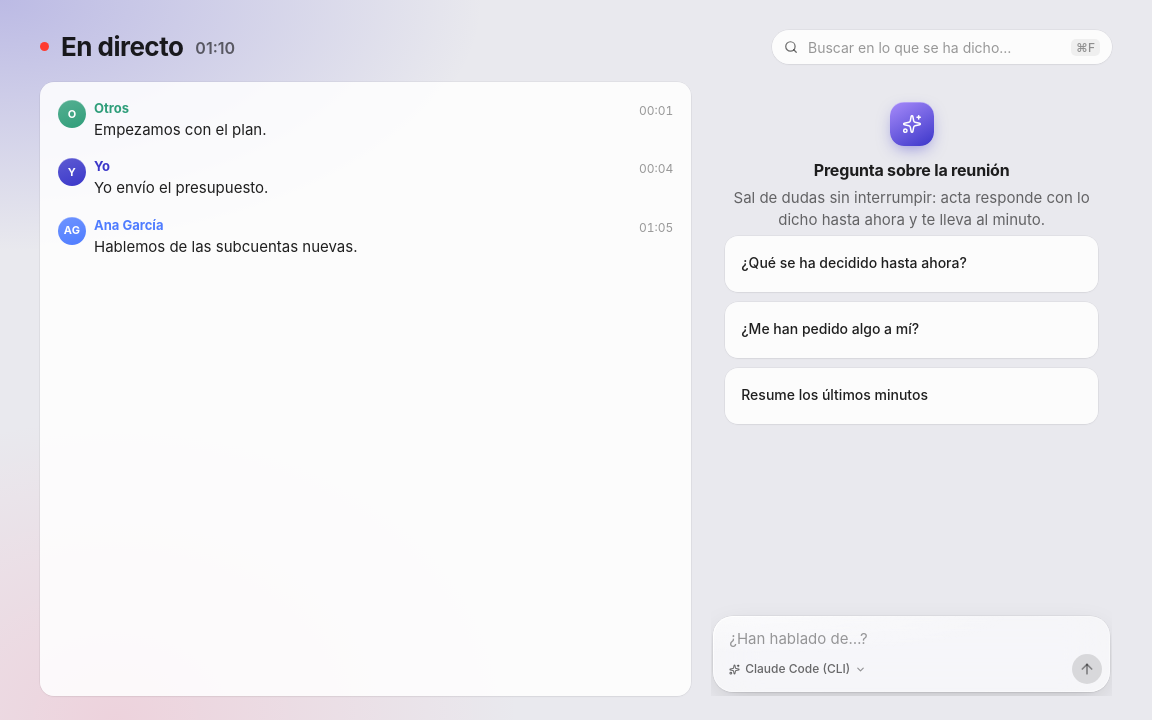
Test: preguntar durante la reunión › si no se ha hablado, lo dice sin citas
This screenshot has width=1152, height=720.
Check: the text "Empezamos con el plan." is shown, box [94, 120, 266, 139]
Type "¿Han mencionado Zaragoza?" into the text box named "Pregunta". click: point(916, 639)
box: [729, 626, 1102, 652]
Then press Enter
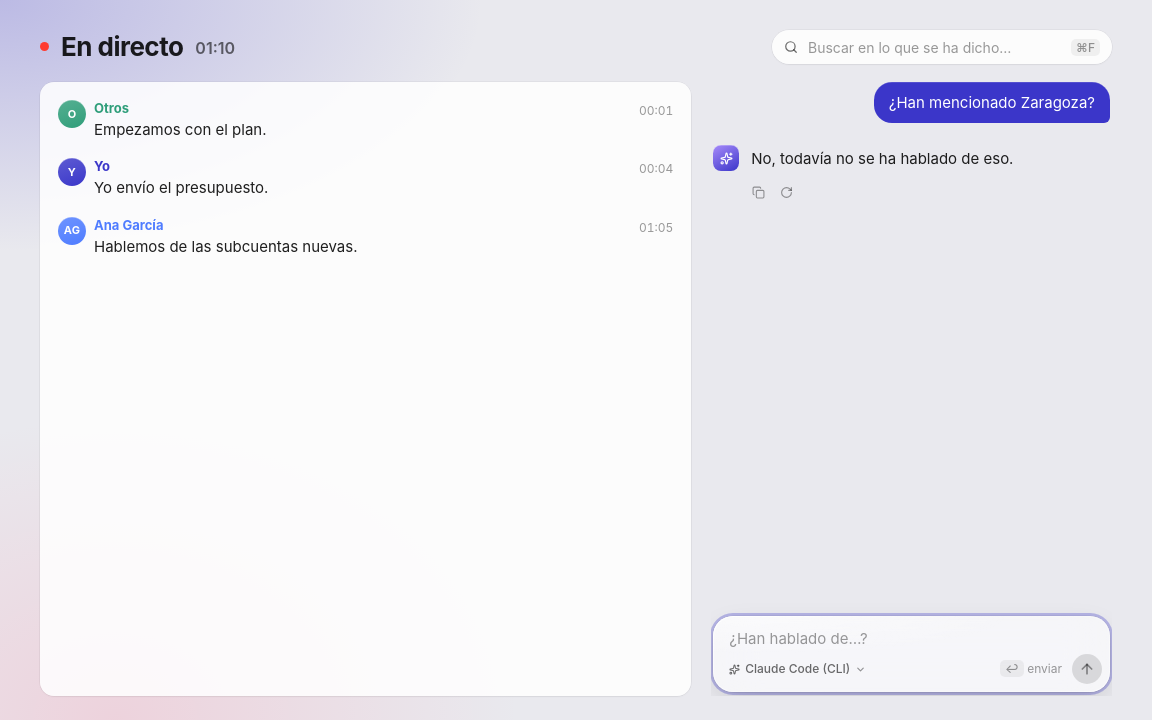
Check: the text "No, todavía no se ha hablado de eso." is shown, box [751, 149, 1013, 168]
